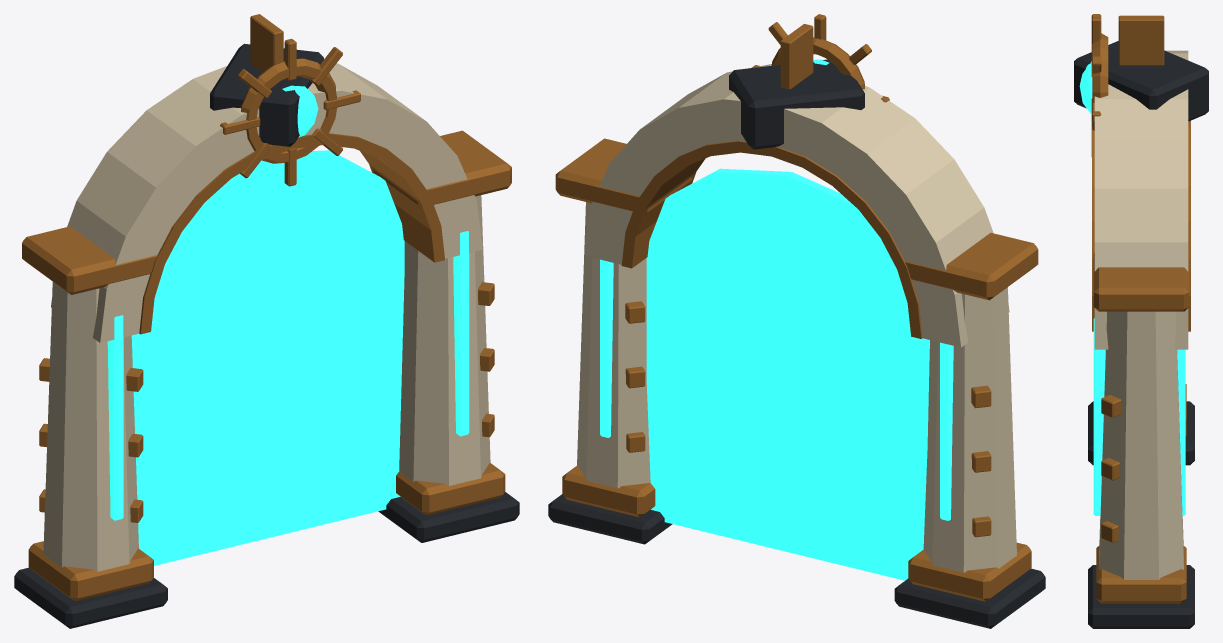
The model's file is portal_world_forge_LOD0.glb.
3 views of the same model, side by side, from view 1: azimuth 30°, elevation 25°; view 2: azimuth 150°, elevation 25°; view 3: azimuth 270°, elevation 25° (orthographic). The views are drawn at different scales.
Parts seen in each view (by area): view 1: portal_world_forge_LOD0; view 2: portal_world_forge_LOD0; view 3: portal_world_forge_LOD0.
Part boxes in pixels (bbox=[...]): portal_world_forge_LOD0: bbox=[14, 14, 519, 628]; portal_world_forge_LOD0: bbox=[548, 14, 1045, 628]; portal_world_forge_LOD0: bbox=[1074, 14, 1208, 628].
Bounding box in the file's own units: 5.22 × 5.85 × 1.41.
